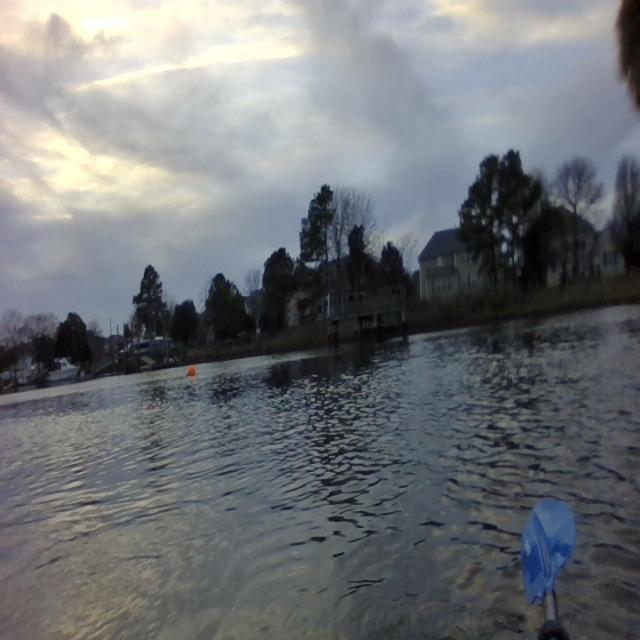Buoy: (186, 363, 200, 382)
